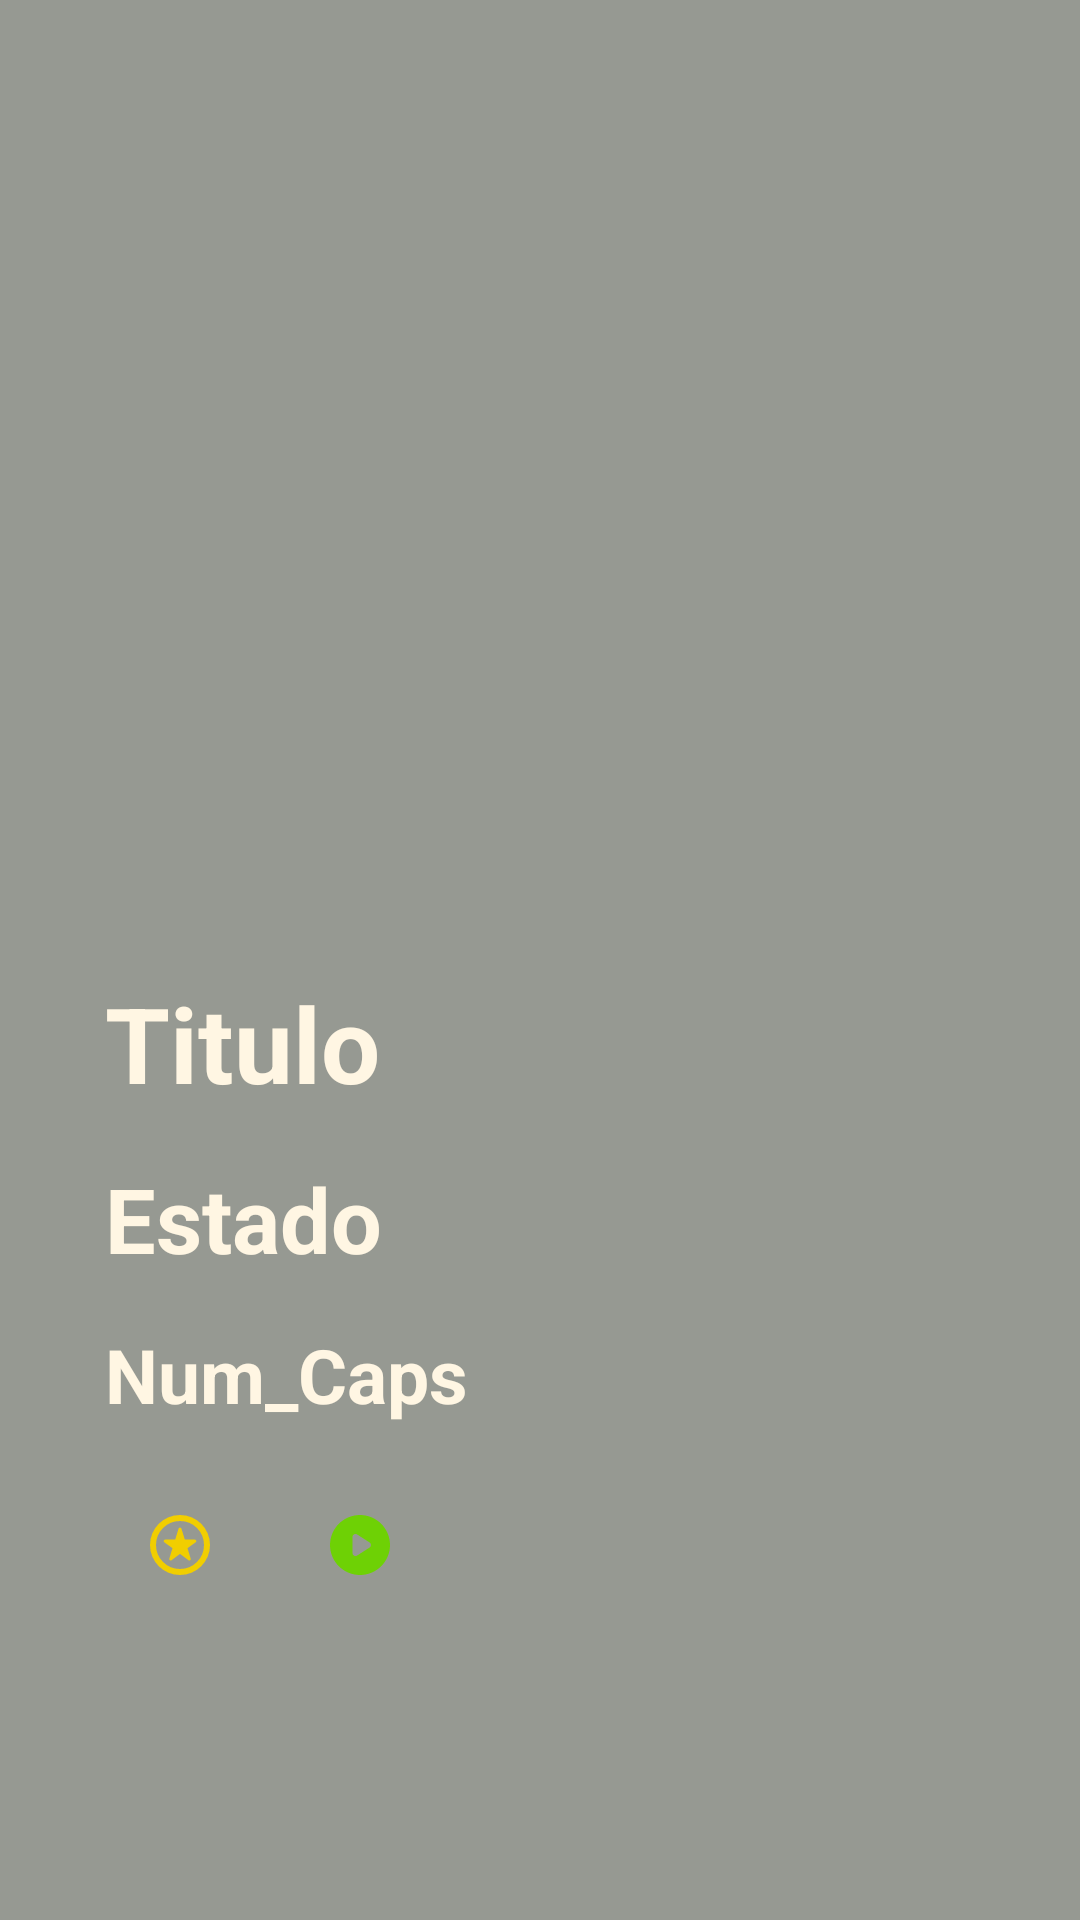

Screen size 1080w x 1920h. Icon name, then its box in pixels as (x1, y1, x2, y2):
comenzar: (330, 1515, 390, 1575)
favoritos: (150, 1515, 210, 1575)
